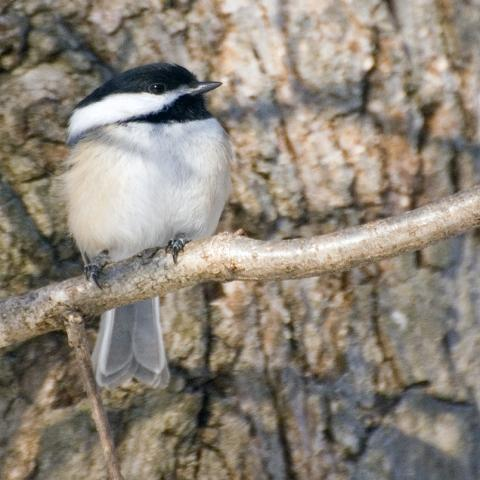bird: (54, 60, 235, 390)
